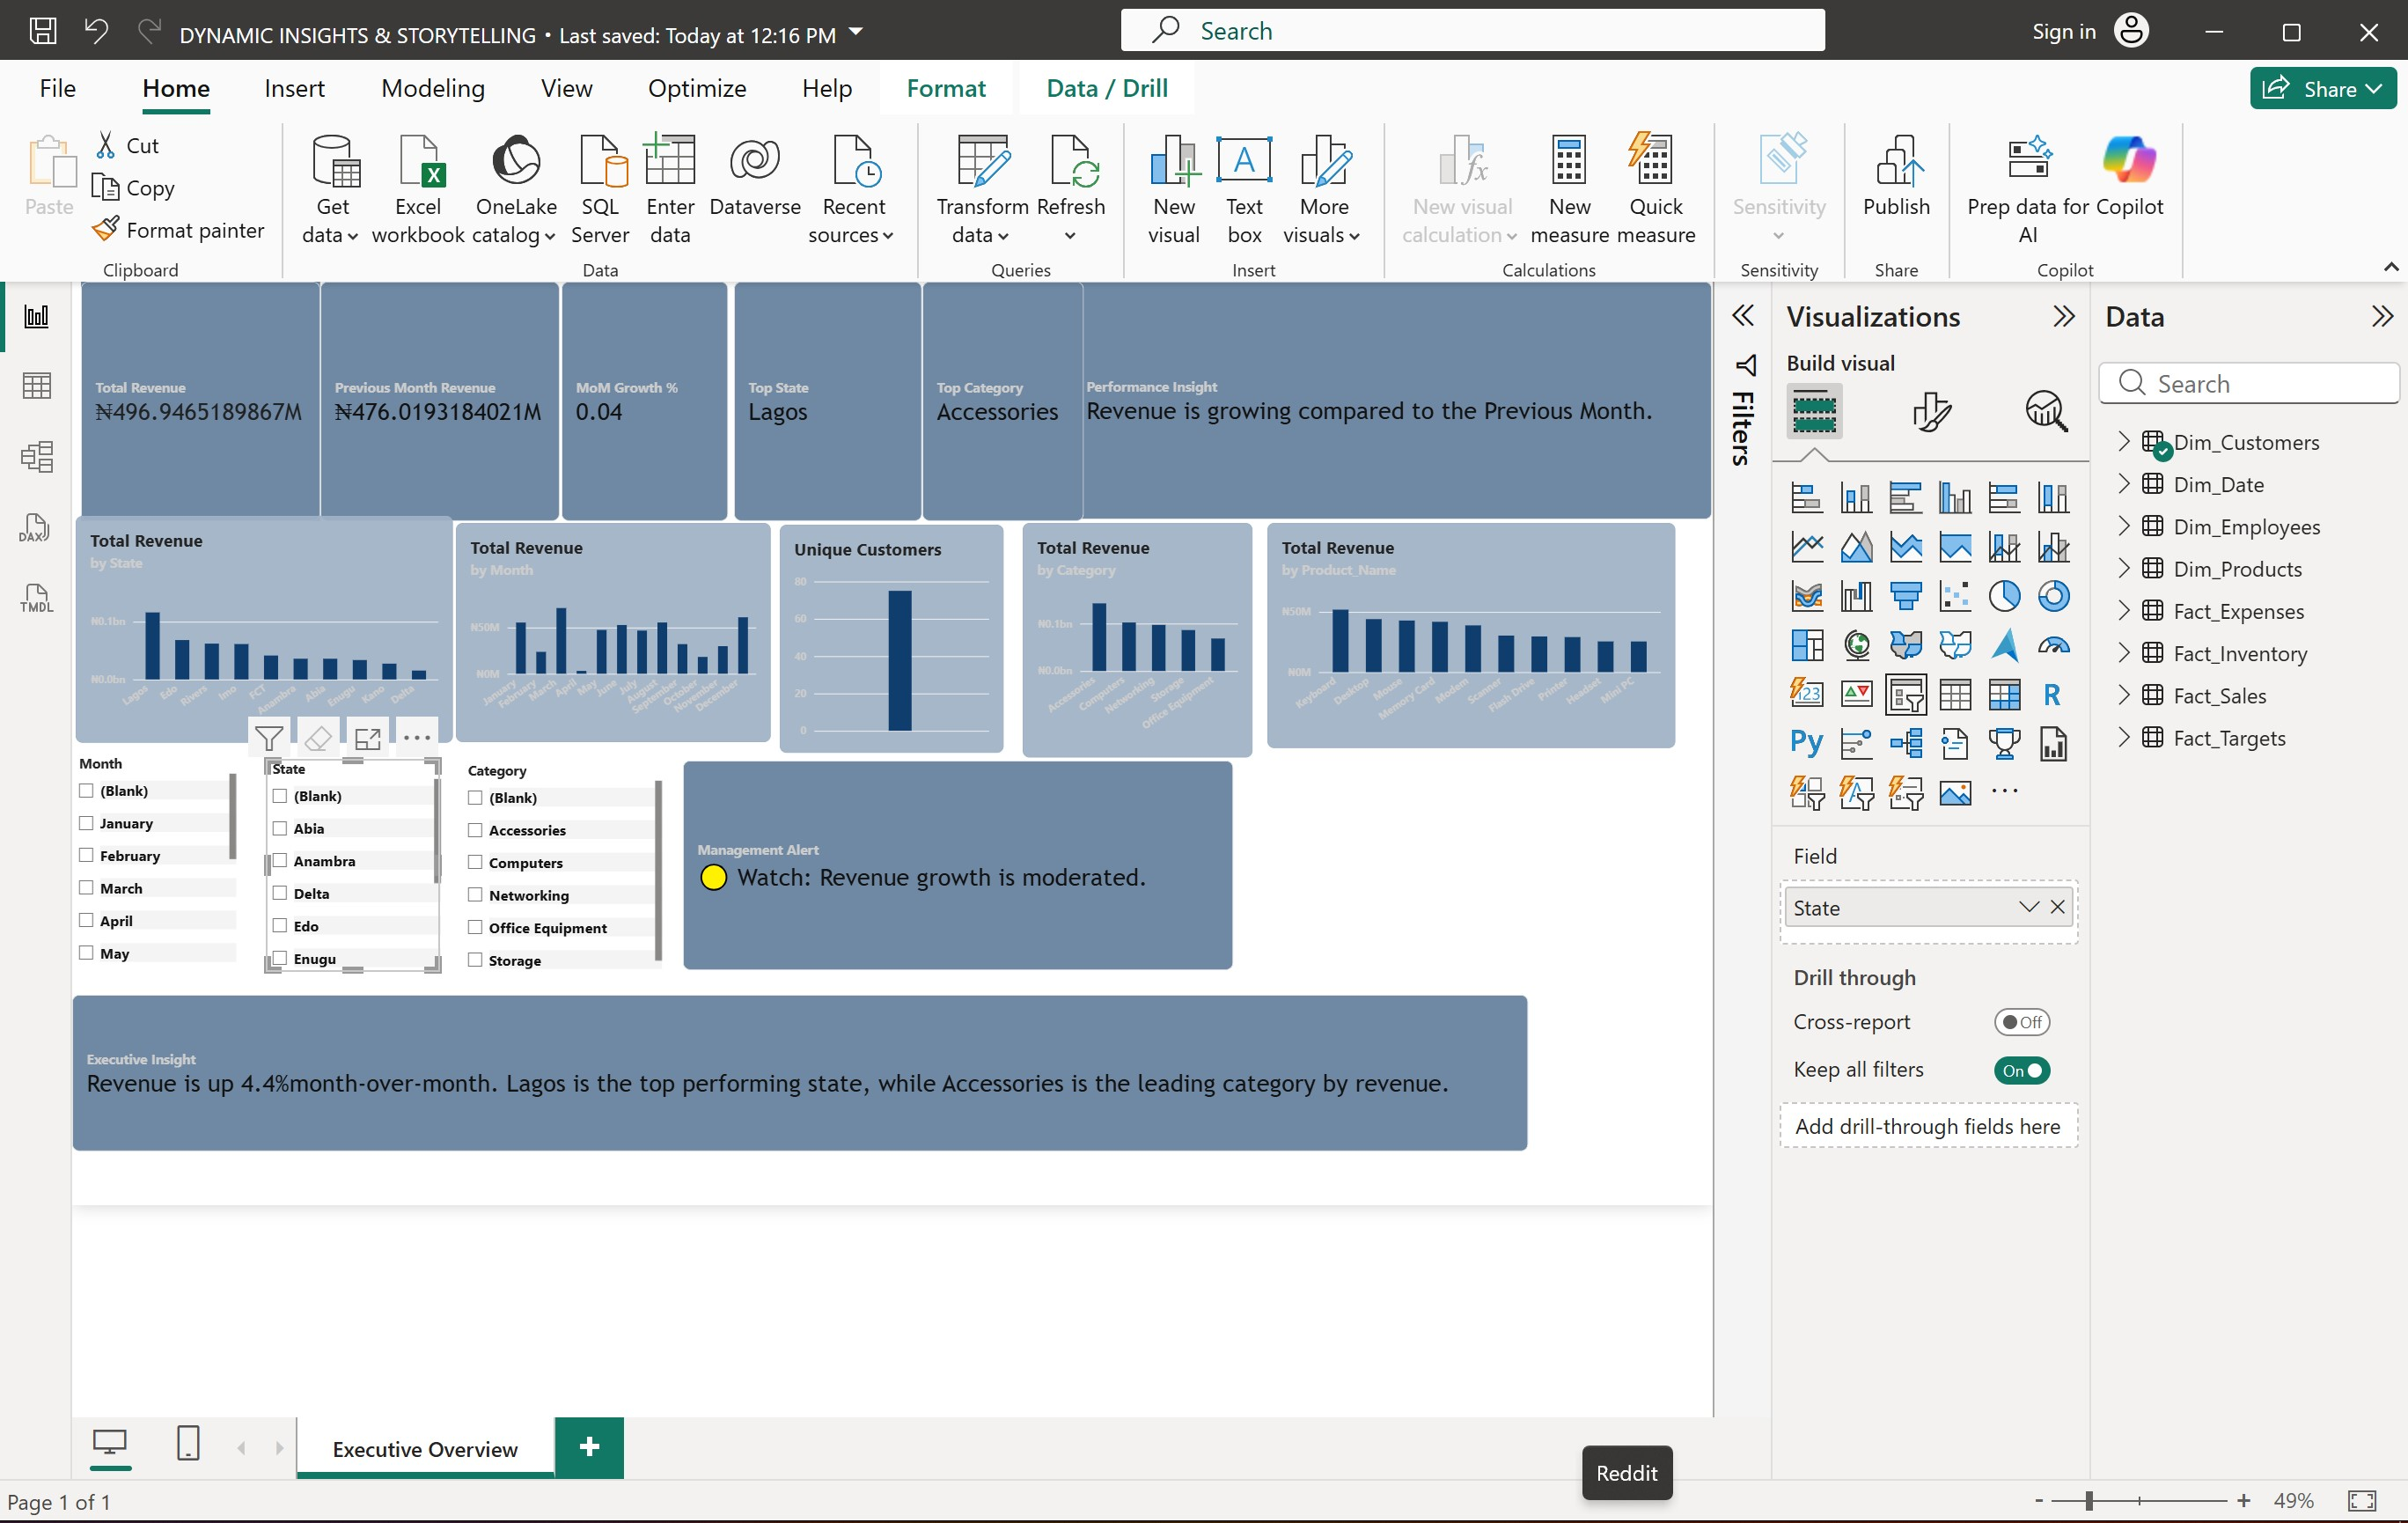

Layout of this report page (visuals, bound fields, positions):
{"tool":"powerbi","page":{"name":"Executive Overview","canvas":[1920,1080],"ordinal":0},"visuals":[{"type":"cardVisual","fields":{"Data":["Dim_Customers.Total Revenue"]},"box":[10,0,280,280],"z":0},{"type":"cardVisual","fields":{"Data":["Dim_Customers.Previous Month Revenue"]},"box":[290.5,0,280,280],"z":1},{"type":"cardVisual","fields":{"Data":["Dim_Customers.MoM Growth %"]},"box":[572.7,0,195.7,280.2],"z":2},{"type":"cardVisual","fields":{"Data":["Dim_Customers.Performance Insight"]},"box":[1193.3,0,718.7,279],"z":3},{"type":"cardVisual","fields":{"Data":["Dim_Customers.Top State"]},"box":[774.6,0,220.4,280.2],"z":4},{"type":"cardVisual","fields":{"Data":["Dim_Customers.Top Category"]},"box":[995.6,0,189.5,280.2],"z":5},{"type":"cardVisual","fields":{"Data":["Dim_Customers.Executive Insight"]},"box":[0,835.3,1704.5,183.5],"z":6},{"type":"clusteredColumnChart","fields":{"Y":["Dim_Customers.Unique Customers"]},"box":[828.2,285,261.8,267.2],"z":7},{"type":"columnChart","fields":{"Category":["Dim_Customers.Join_Date.Variation.Date Hierarchy.Month"],"Y":["Dim_Customers.Total Revenue"]},"box":[448.8,283.2,368.7,256.5],"z":8},{"type":"columnChart","fields":{"Category":["Dim_Customers.State"],"Y":["Dim_Customers.Total Revenue"]},"box":[3.6,274.3,441.7,265.4],"z":9},{"type":"columnChart","fields":{"Category":["Dim_Products.Category"],"Y":["Dim_Customers.Total Revenue"]},"box":[1113.2,281.4,268.9,274.3],"z":10},{"type":"columnChart","fields":{"Category":["Dim_Products.Product_Name"],"Y":["Dim_Customers.Total Revenue"]},"box":[1398.1,281.4,477.3,263.6],"z":11},{"type":"slicer","fields":{"Values":["Dim_Customers.Join_Date.Variation.Date Hierarchy.Month"]},"box":[0,552.1,192,246],"z":12},{"type":"slicer","fields":{"Values":["Dim_Customers.State"]},"box":[226.2,557.5,204.8,249.4],"z":13},{"type":"slicer","fields":{"Values":["Dim_Products.Category"]},"box":[456,561,235.1,245.8],"z":14},{"type":"cardVisual","fields":{"Data":["Dim_Customers.Management Alert"]},"box":[714.2,561,644.8,245.2],"z":15}]}

Visuals, with their boxes on the page's 1920x1080 design canvas (x1, y1, x2, y2). These are canvas units, not pixel positions in the 2408x1523 screenshot, which may show the page scaled, cropped or inside an application window:
cardVisual - Dim_Customers.Total Revenue: 10/0/290/280
cardVisual - Dim_Customers.Previous Month Revenue: 290/0/570/280
cardVisual - Dim_Customers.MoM Growth %: 573/0/768/280
cardVisual - Dim_Customers.Performance Insight: 1193/0/1912/279
cardVisual - Dim_Customers.Top State: 775/0/995/280
cardVisual - Dim_Customers.Top Category: 996/0/1185/280
cardVisual - Dim_Customers.Executive Insight: 0/835/1704/1019
clusteredColumnChart - Dim_Customers.Unique Customers: 828/285/1090/552
columnChart - Dim_Customers.Join_Date.Variation.Date Hierarchy.Month x Dim_Customers.Total Revenue: 449/283/818/540
columnChart - Dim_Customers.State x Dim_Customers.Total Revenue: 4/274/445/540
columnChart - Dim_Products.Category x Dim_Customers.Total Revenue: 1113/281/1382/556
columnChart - Dim_Products.Product_Name x Dim_Customers.Total Revenue: 1398/281/1875/545
slicer - Dim_Customers.Join_Date.Variation.Date Hierarchy.Month: 0/552/192/798
slicer - Dim_Customers.State: 226/558/431/807
slicer - Dim_Products.Category: 456/561/691/807
cardVisual - Dim_Customers.Management Alert: 714/561/1359/806
